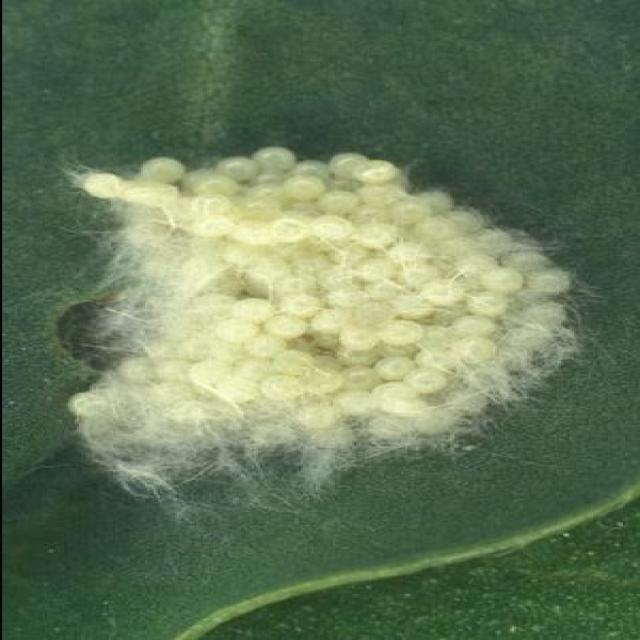army worm: (59, 148, 605, 518)
